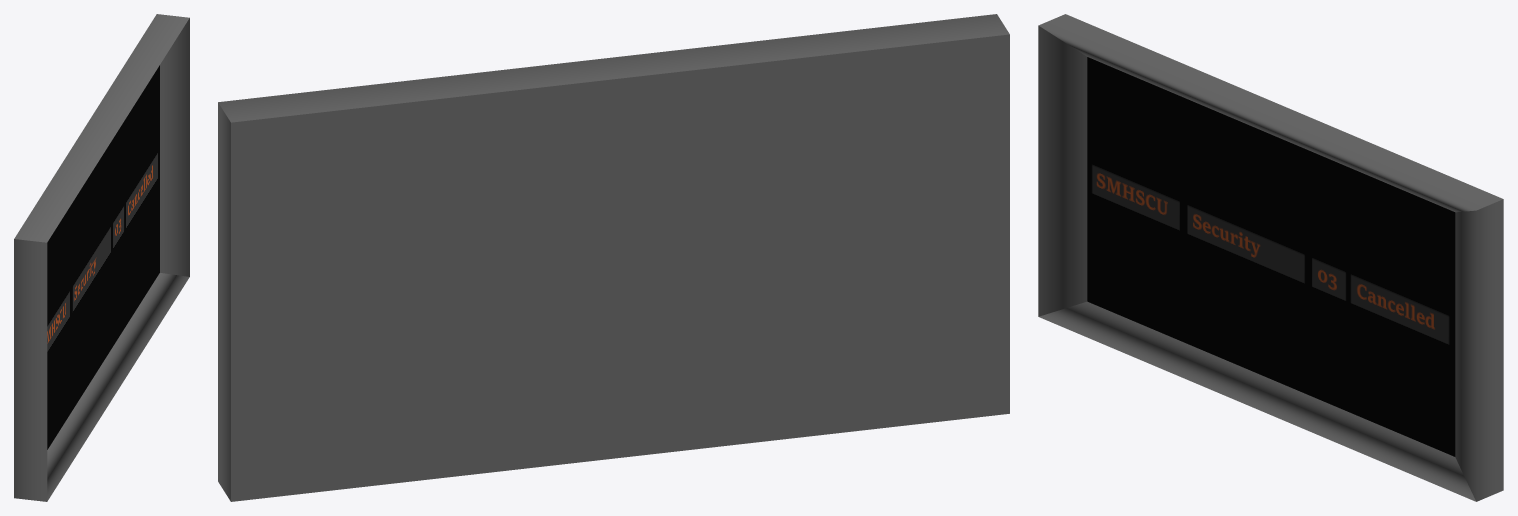
The model's file is SM_Hub_TV_03.fbx.
The picture shows the model from 3 angles, left to right: view 1: azimuth 30°, elevation 25°; view 2: azimuth 150°, elevation 25°; view 3: azimuth 270°, elevation 25°; orthographic projection. The views are drawn at different scales.
Visible parts, largest first — view 1: pasted__pasted__SM_Hub_TV_01; view 2: pasted__pasted__SM_Hub_TV_01; view 3: pasted__pasted__SM_Hub_TV_01.
Boxes of the visible parts, x1,y1,x2,y2 form: pasted__pasted__SM_Hub_TV_01: (14, 14, 189, 501); pasted__pasted__SM_Hub_TV_01: (218, 14, 1009, 501); pasted__pasted__SM_Hub_TV_01: (1038, 14, 1503, 501).
Bounding box in the file's own units: 19.25 × 13.3 × 19.25.
